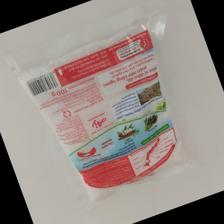Ajinomoto: (16, 27, 182, 206)
